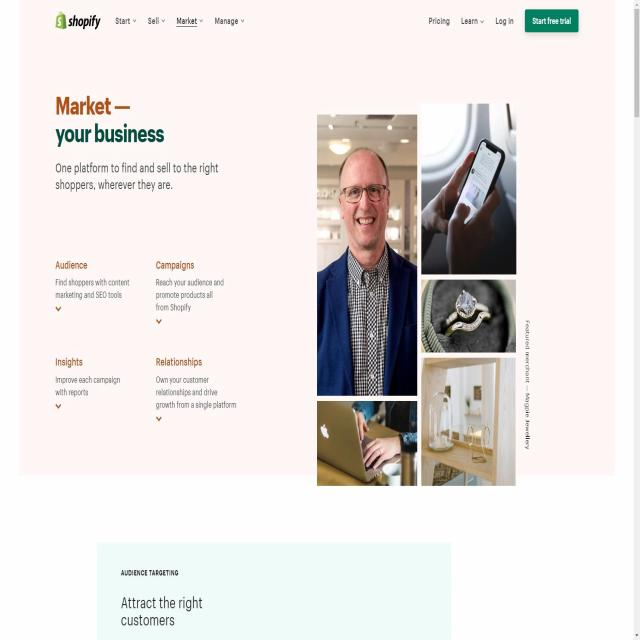button: (525, 10, 578, 32)
select: (213, 14, 246, 26), (460, 15, 485, 27), (114, 15, 138, 27), (146, 14, 166, 26)
